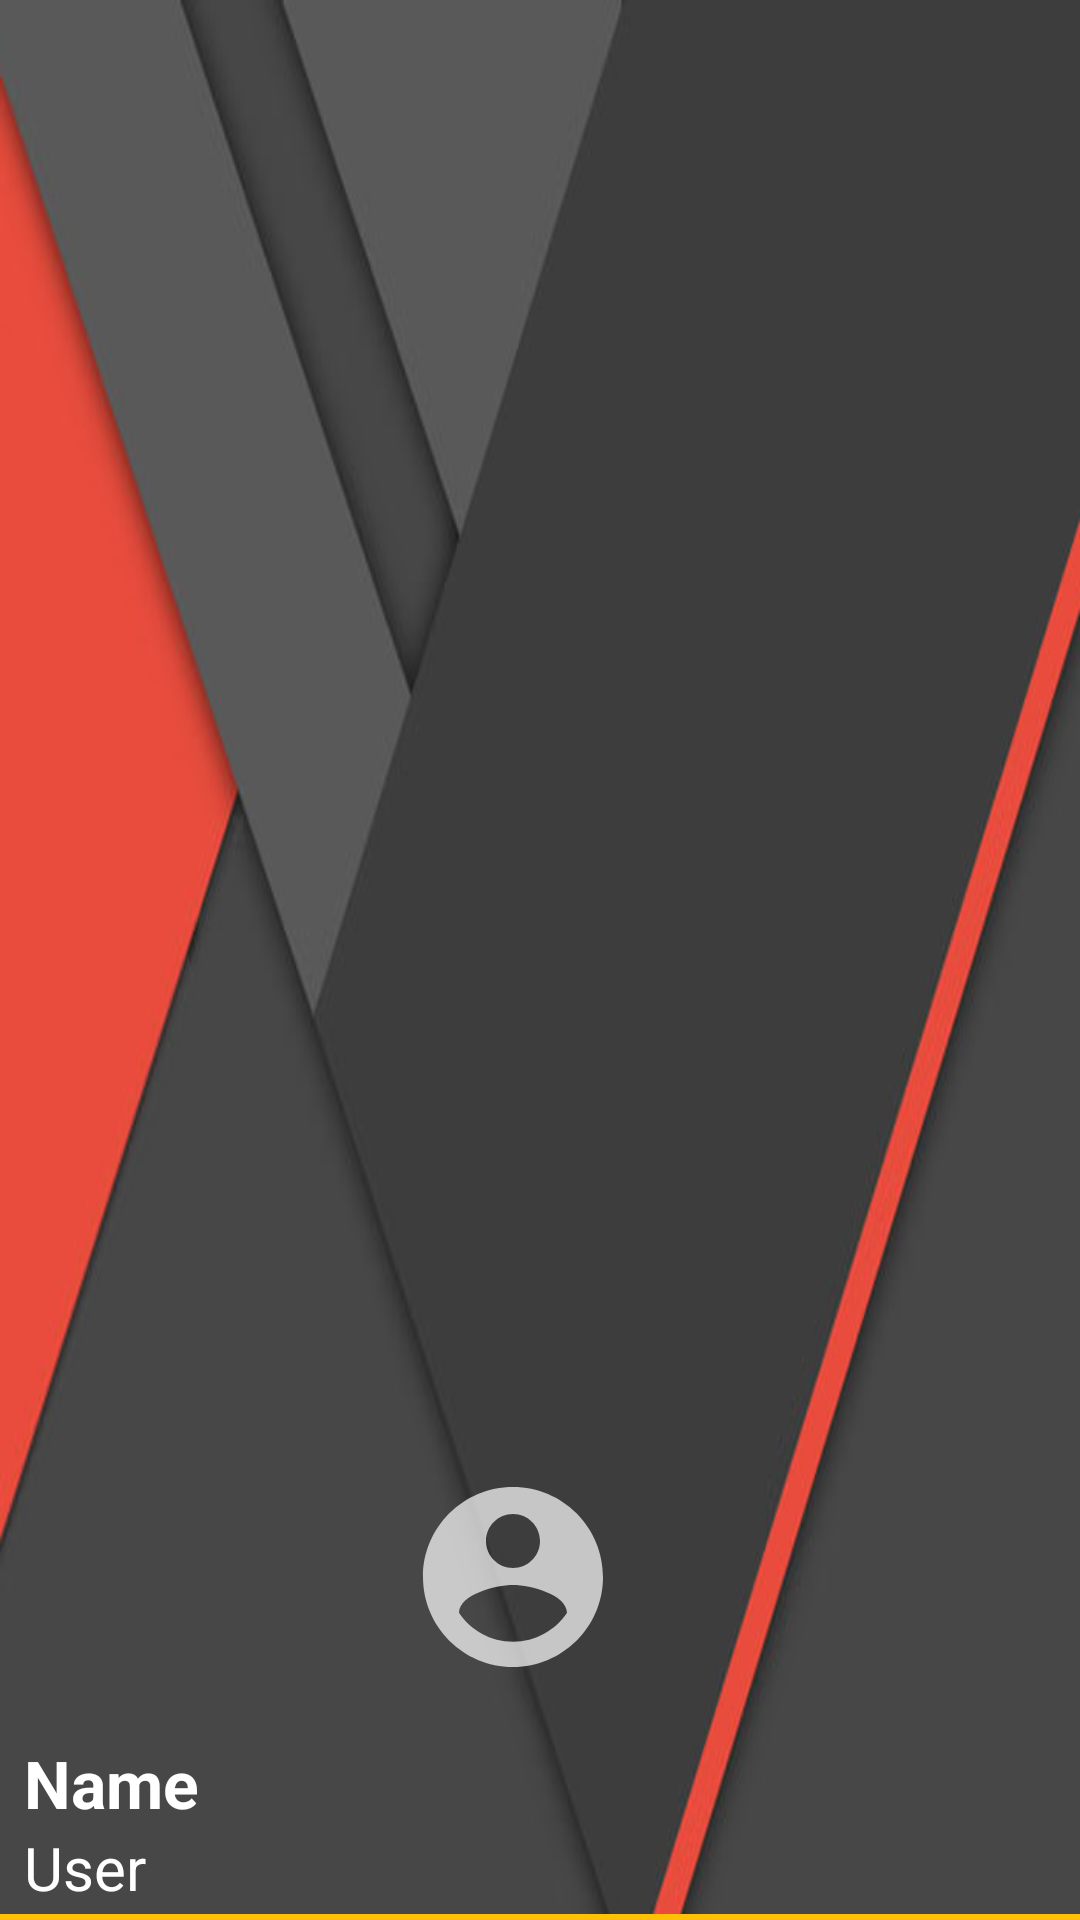

Icons on this 1080 × 1920 Android screen, each with its box as (x1, y1, x2, y2):
account circle: (422, 1487, 603, 1667)
